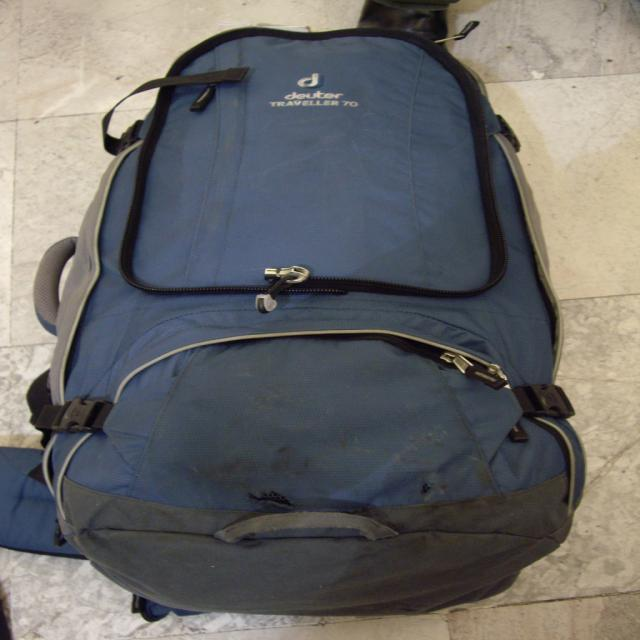backpack: (41, 29, 582, 608)
